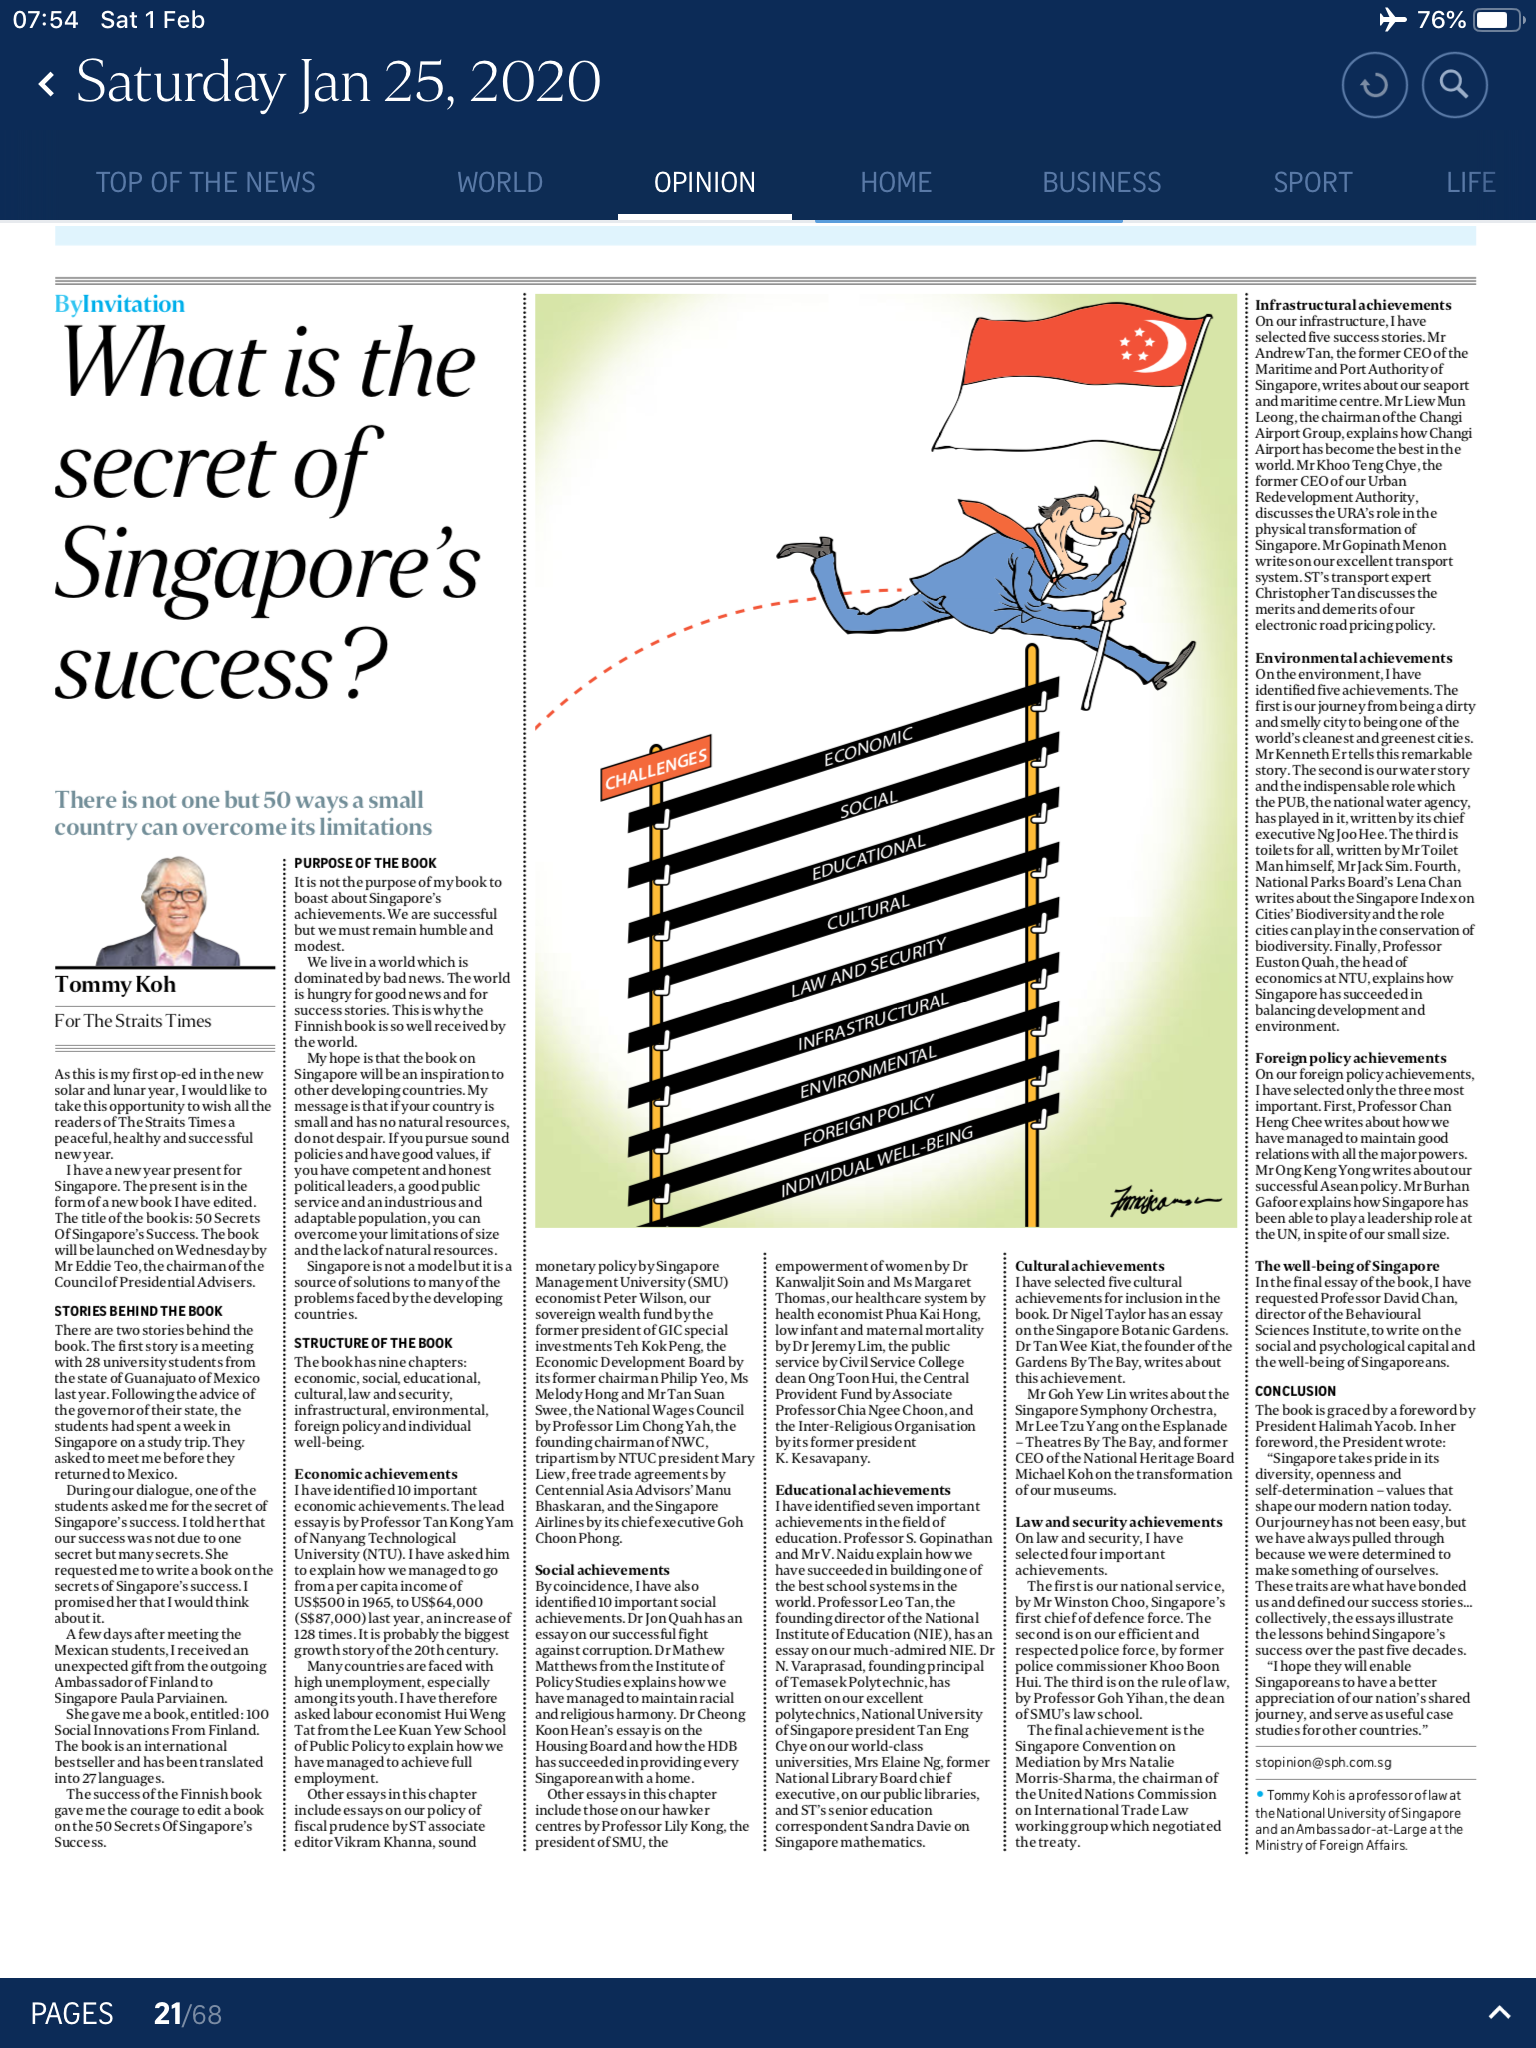Byline: (52, 974, 218, 1029)
Headline: (52, 319, 482, 701)
Image: (532, 290, 1234, 1227), (90, 851, 245, 968)
Text: (1255, 298, 1476, 1746), (290, 855, 515, 1848), (52, 1068, 269, 1848), (532, 1258, 750, 1853), (774, 1255, 991, 1851), (1013, 1251, 1229, 1846)
